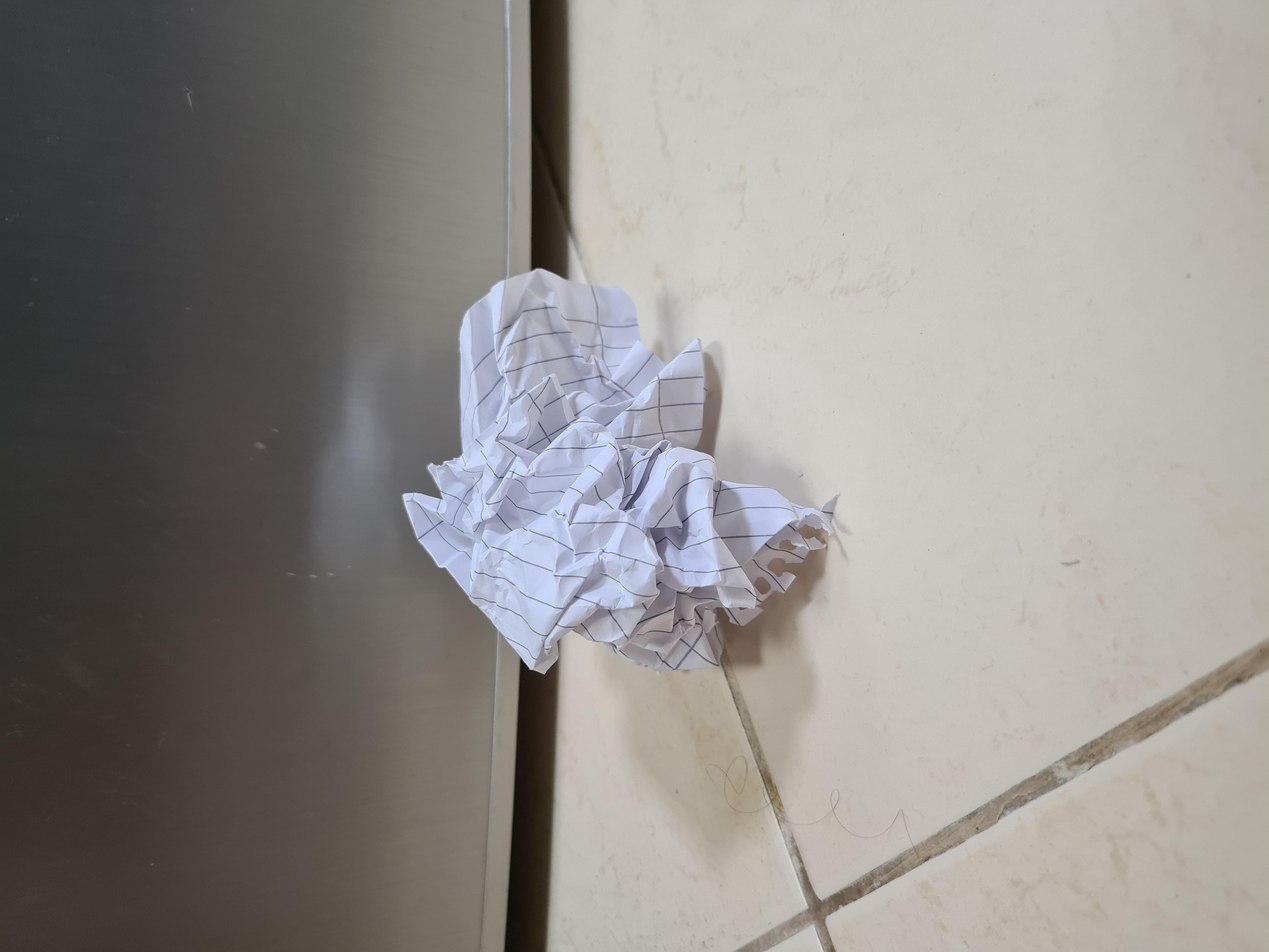paper: (353, 305, 925, 617)
